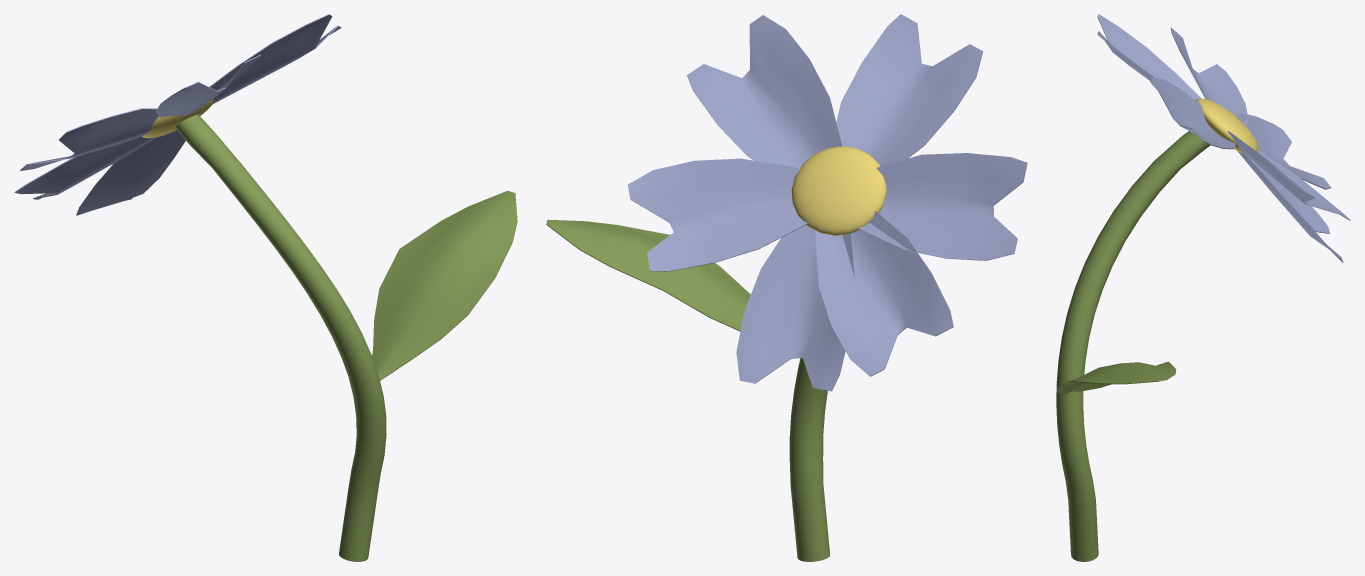
The model's file is flower.fbx.
The picture shows the model from 3 angles, left to right: view 1: azimuth 30°, elevation 25°; view 2: azimuth 150°, elevation 25°; view 3: azimuth 270°, elevation 25°; orthographic projection. The views are drawn at different scales.
Visible parts, largest first — view 1: pPlane8, pCylinder2, pPlane2, pPlane6, pPlane4, pPlane3, pPlane5, pSphere2; view 2: pPlane7, pPlane6, pPlane3, pPlane4, pPlane5, pPlane2, pPlane8, pSphere2, pCylinder2; view 3: pCylinder2, pPlane5, pPlane8, pPlane6, pPlane4, pPlane3, pPlane7, pPlane2, pSphere2.
Part boxes in pixels (x1,y1,x2,y2): pPlane8: (372,190,517,380); pCylinder2: (175,114,386,561); pPlane2: (76,130,185,215); pPlane6: (209,14,341,104); pPlane4: (20,108,158,170); pPlane3: (14,136,157,199); pPlane5: (156,54,260,117); pSphere2: (142,99,213,138); pPlane7: (628,158,807,271); pPlane6: (687,15,842,168); pPlane3: (815,211,953,376); pPlane4: (859,153,1027,260); pPlane5: (836,14,982,166); pPlane2: (736,225,854,391); pPlane8: (546,219,750,331); pSphere2: (791,146,886,235); pCylinder2: (789,358,829,561); pCylinder2: (1056,131,1210,561); pPlane5: (1097,14,1201,100); pPlane8: (1057,361,1176,395); pPlane6: (1150,77,1235,149); pPlane4: (1170,27,1248,126); pPlane3: (1236,113,1331,189); pPlane7: (1227,131,1350,220); pPlane2: (1237,151,1343,262); pSphere2: (1196,98,1258,153).
Bounding box in the file's own units: 75.39 × 81.44 × 44.96.
